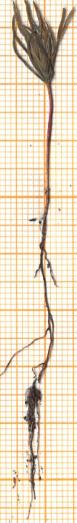flower: (0, 0, 77, 86)
root: (0, 219, 67, 520)
stem: (37, 83, 63, 222)
